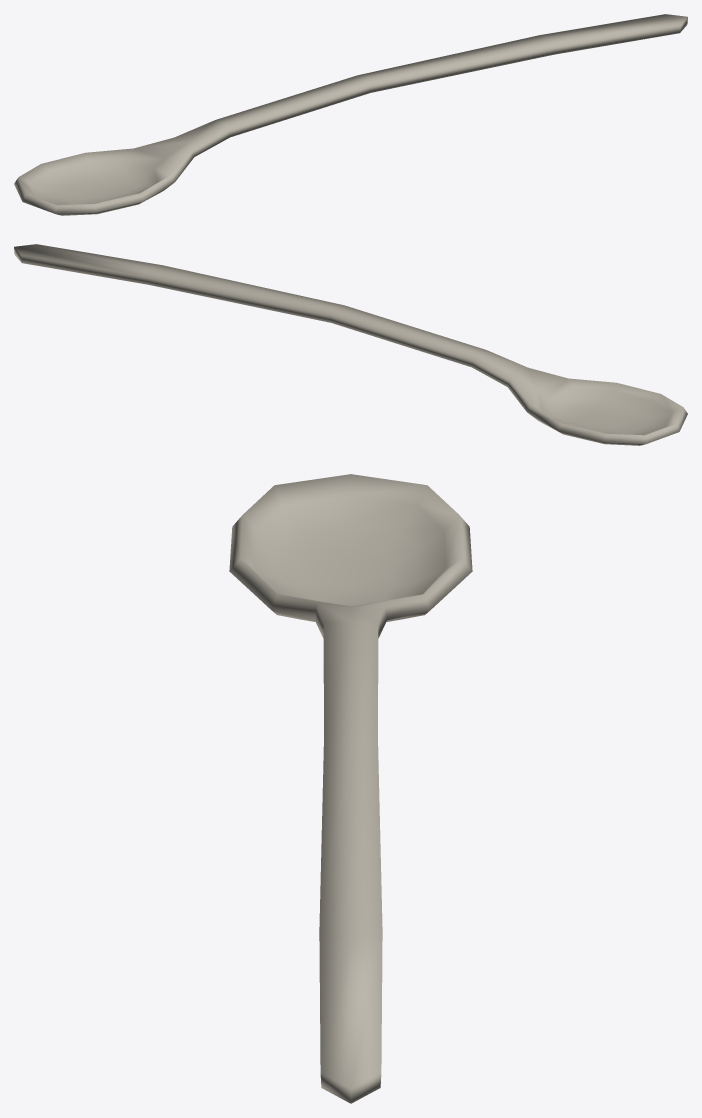
File: Löffel.fbx
3 views of the same model, one above another, from view 1: azimuth 30°, elevation 25°; view 2: azimuth 150°, elevation 25°; view 3: azimuth 270°, elevation 25° (orthographic). The views are drawn at different scales.
Parts seen in each view (by area): view 1: Löffel; view 2: Löffel; view 3: Löffel.
Part boxes in pixels (x1,y1,x2,y2): Löffel: [14, 14, 687, 215]; Löffel: [14, 244, 687, 445]; Löffel: [229, 474, 472, 1103].
Size of the model in its own units: 1032 by 78.43 by 163.
